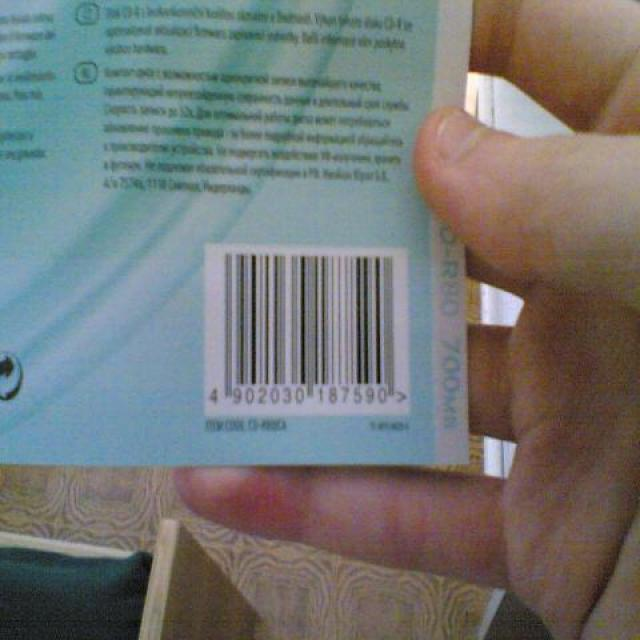Barcode: (203, 245, 413, 414)
